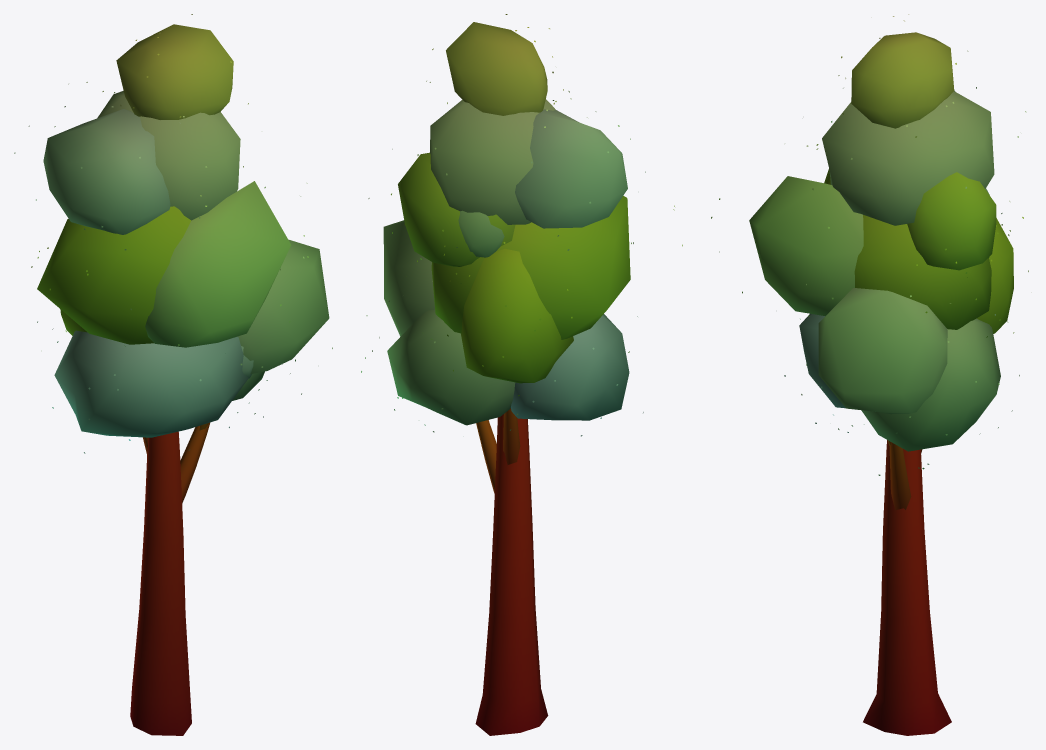
The model's file is card_tall.glb.
3 views of the same model, side by side, from view 1: azimuth 30°, elevation 25°; view 2: azimuth 150°, elevation 25°; view 3: azimuth 270°, elevation 25° (orthographic).
Parts seen in each view (by area): view 1: card_tall_LOD0; view 2: card_tall_LOD0; view 3: card_tall_LOD0.
Boxes of the visible parts, left/top/right/bottom form: card_tall_LOD0: left=14, top=14, right=332, bottom=735; card_tall_LOD0: left=361, top=14, right=682, bottom=735; card_tall_LOD0: left=711, top=14, right=1028, bottom=735.
Size of what is drawn, in the model's own units: 3.7 by 8.56 by 3.55.
